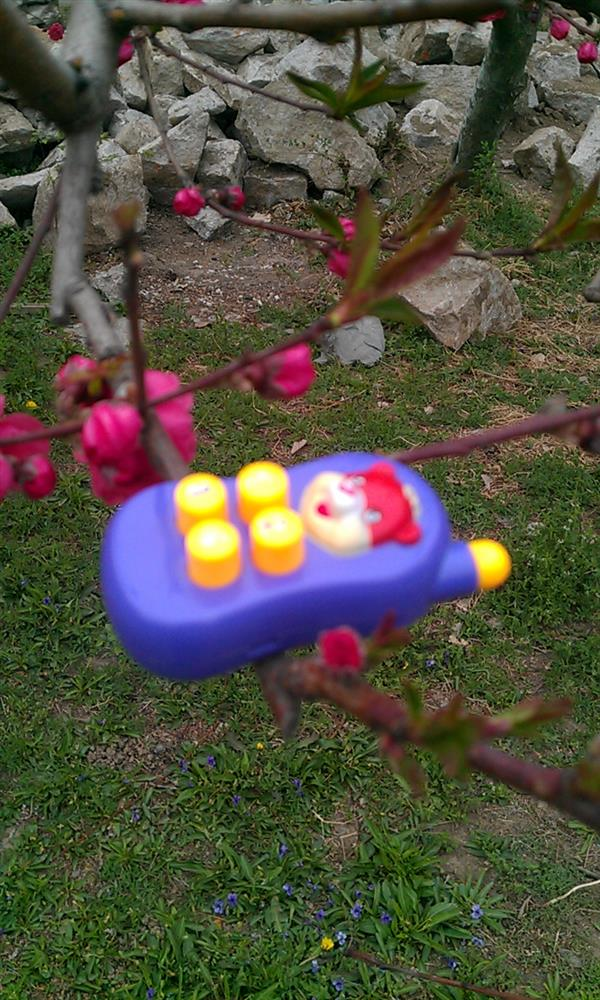toy_phone: (101, 445, 518, 675)
